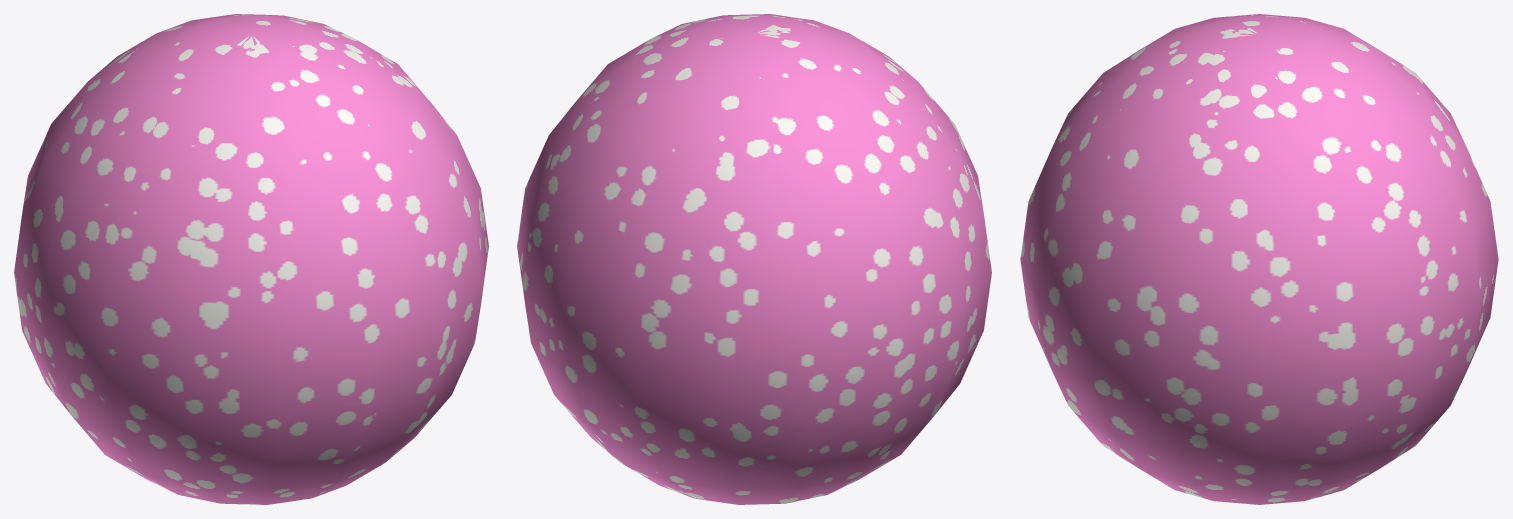
File: egg_momo.glb
The picture shows the model from 3 angles, left to right: view 1: azimuth 30°, elevation 25°; view 2: azimuth 150°, elevation 25°; view 3: azimuth 270°, elevation 25°; orthographic projection.
Parts seen in each view (by area): view 1: Egg_Momo_body_0; view 2: Egg_Momo_body_0; view 3: Egg_Momo_body_0.
Boxes of the visible parts, <box> form: Egg_Momo_body_0: <box>14,14,488,504</box>; Egg_Momo_body_0: <box>517,14,991,504</box>; Egg_Momo_body_0: <box>1020,14,1498,504</box>.
Bounding box in the file's own units: 1.98 × 2.06 × 1.98.
1 material, 1 textured.
